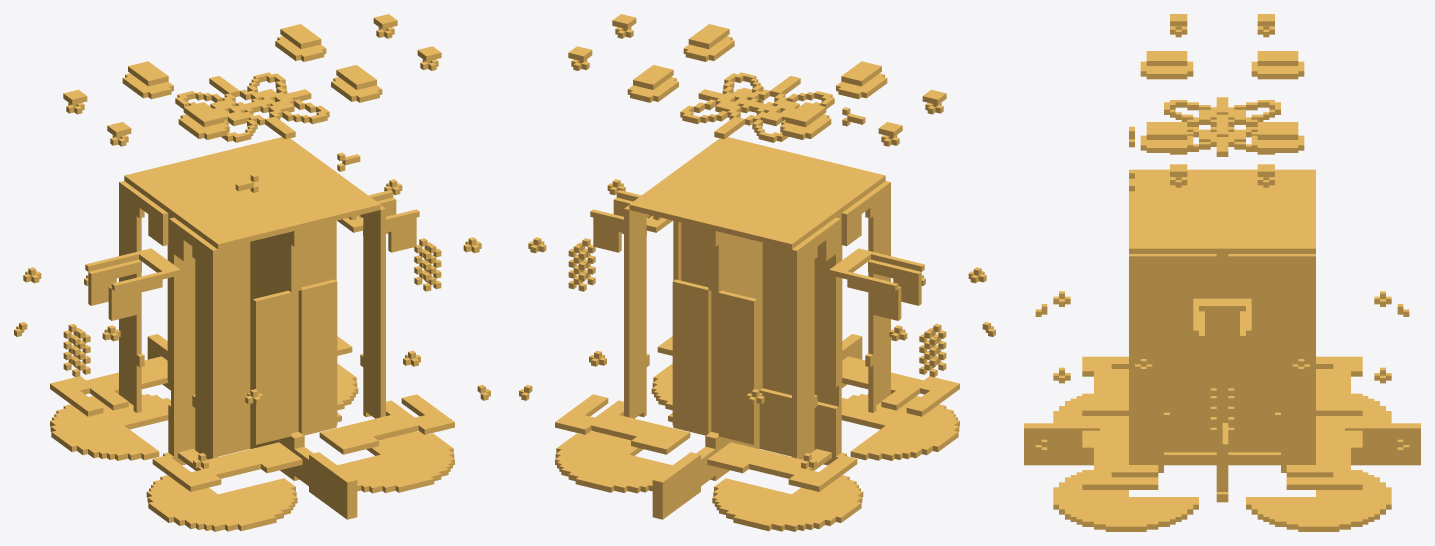
3 renders of one model, left to right at view 1: azimuth 30°, elevation 25°; view 2: azimuth 150°, elevation 25°; view 3: azimuth 270°, elevation 25°, orthographic.
Visible parts, largest first — view 1: 橙光; view 2: 橙光; view 3: 橙光.
Boxes of the visible parts, box(x1,y1,x2,y2) form: 橙光: box(14, 14, 490, 531); 橙光: box(519, 14, 995, 531); 橙光: box(1024, 14, 1420, 531).
Size of the model in its own units: 74 by 70 by 68.
Materials: 1 (1 with a texture image).
